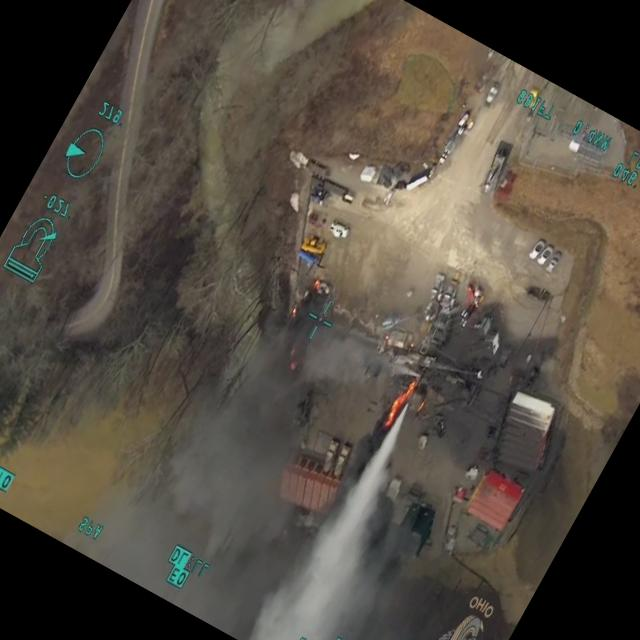crack: (520, 276, 559, 303)
methane: (249, 410, 405, 640), (61, 505, 296, 640), (172, 351, 297, 556), (328, 575, 503, 640), (383, 381, 418, 430)
old_road: (199, 0, 375, 375)
road: (293, 55, 587, 338), (64, 0, 165, 340)
